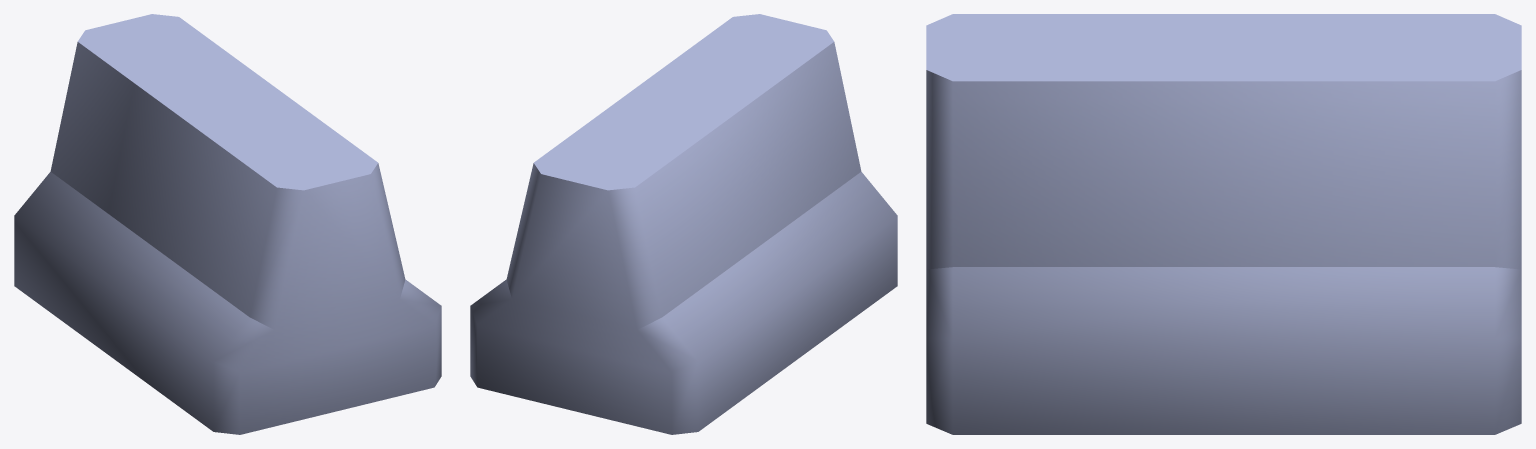
File: construction-barrier.glb
The picture shows the model from 3 angles, left to right: view 1: azimuth 30°, elevation 25°; view 2: azimuth 150°, elevation 25°; view 3: azimuth 270°, elevation 25°; orthographic projection. The views are drawn at different scales.
Parts seen in each view (by area): view 1: construction-barrier; view 2: construction-barrier; view 3: construction-barrier.
Part boxes in pixels (x1,y1,x2,y2): construction-barrier: (14,14,441,434); construction-barrier: (470,14,897,434); construction-barrier: (926,14,1521,434).
Size of the model in its own units: 0.1355 by 0.13 by 0.225.
Materials: 1 (1 with a texture image).
